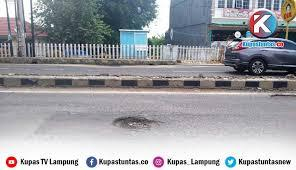Pothole: (103, 114, 169, 132)
